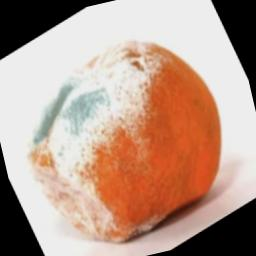Orange Rotten: (0, 11, 253, 256)
